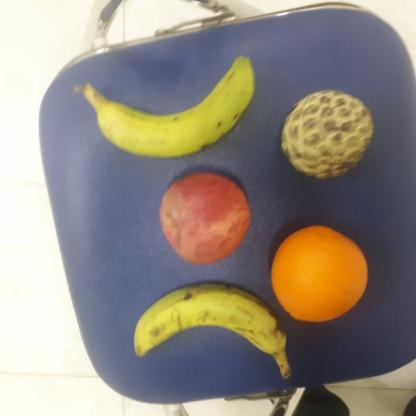annona: (278, 87, 375, 180)
apple: (159, 169, 253, 265)
banana: (85, 52, 256, 160), (132, 278, 290, 359)
orange: (267, 224, 369, 324)
